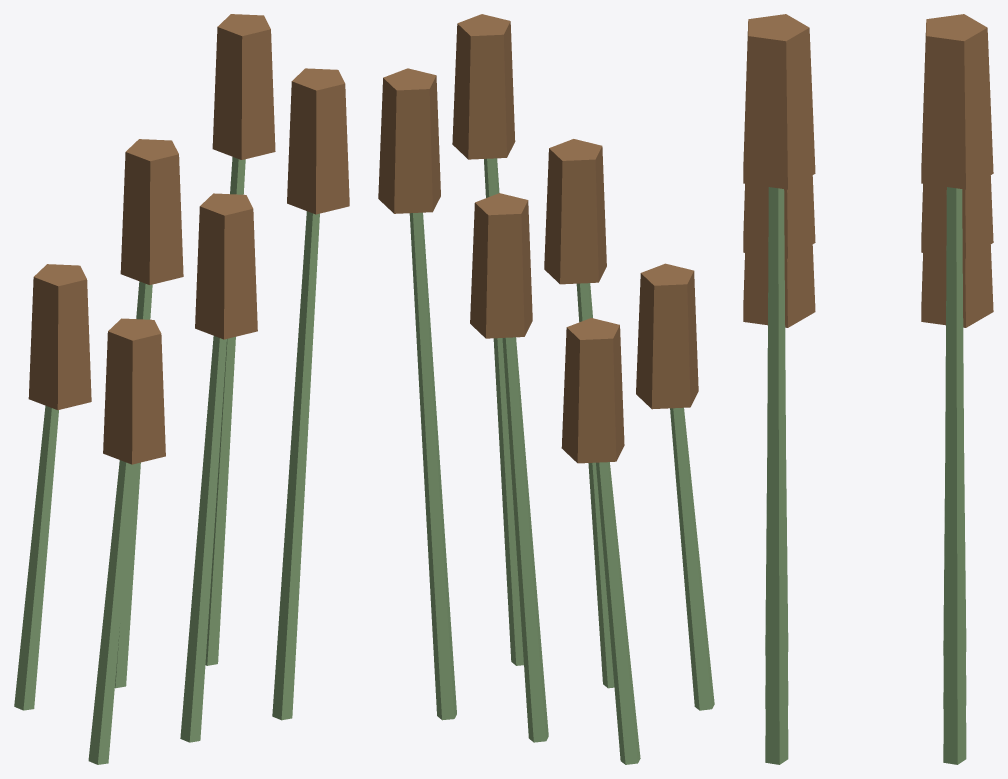
The model's file is reeds_a.glb.
3 views of the same model, side by side, from view 1: azimuth 30°, elevation 25°; view 2: azimuth 150°, elevation 25°; view 3: azimuth 270°, elevation 25° (orthographic). The views are drawn at different scales.
Visible parts, largest first — view 1: stem_5, head_5, head_0, head_4, head_3, head_1, head_2, stem_4, stem_0, stem_3, stem_2, stem_1; view 2: stem_2, head_5, head_1, head_2, head_0, head_3, head_4, stem_1, stem_3, stem_0, stem_5, stem_4; view 3: stem_5, stem_2, head_2, head_5, head_1, head_4, head_0, head_3.
Boxes of the visible parts, box(x1,y1,x2,y2) form: stem_5: box(272, 211, 319, 720); head_5: box(287, 68, 349, 214); head_0: box(28, 264, 91, 410); head_4: box(195, 193, 257, 339); head_3: box(103, 318, 165, 464); head_1: box(120, 139, 183, 284); head_2: box(212, 14, 275, 159); stem_4: box(180, 336, 226, 742); stem_0: box(14, 405, 58, 710); stem_3: box(88, 460, 133, 764); stem_2: box(205, 157, 245, 665); stem_1: box(114, 281, 152, 688); stem_2: box(409, 212, 456, 720); head_5: box(452, 14, 515, 159); head_1: box(470, 193, 532, 338); head_2: box(378, 68, 440, 213); head_0: box(561, 318, 624, 463); head_3: box(636, 263, 698, 409); head_4: box(544, 139, 606, 284); stem_1: box(502, 337, 548, 742); stem_3: box(670, 407, 714, 710); stem_0: box(596, 462, 640, 764); stem_5: box(484, 158, 523, 665); stem_4: box(576, 283, 614, 688); stem_5: box(765, 187, 788, 764); stem_2: box(943, 187, 966, 764); head_2: box(921, 14, 993, 189); head_5: box(743, 14, 815, 189); head_1: box(921, 175, 993, 258); head_4: box(743, 175, 815, 258); head_0: box(921, 244, 993, 327); head_3: box(743, 244, 815, 327).
Bounding box in the file's own units: 0.4189 × 0.9814 × 0.295.
